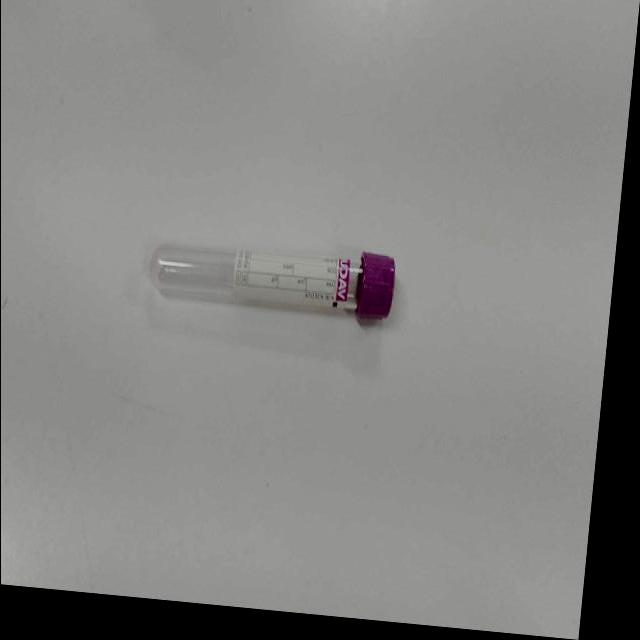Sharps: (148, 242, 397, 320)
